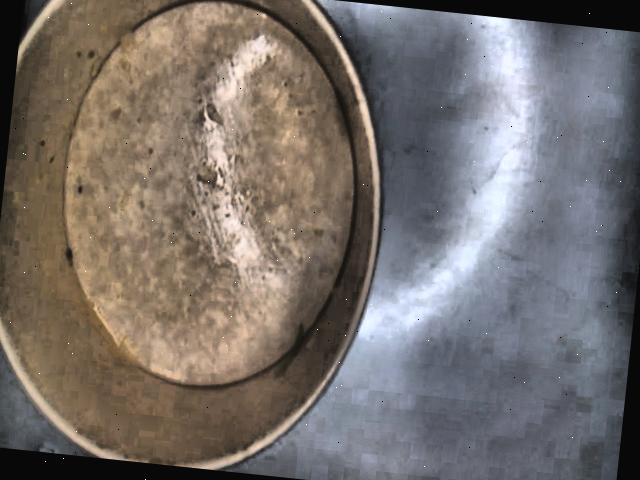Paper: (0, 0, 380, 471)
